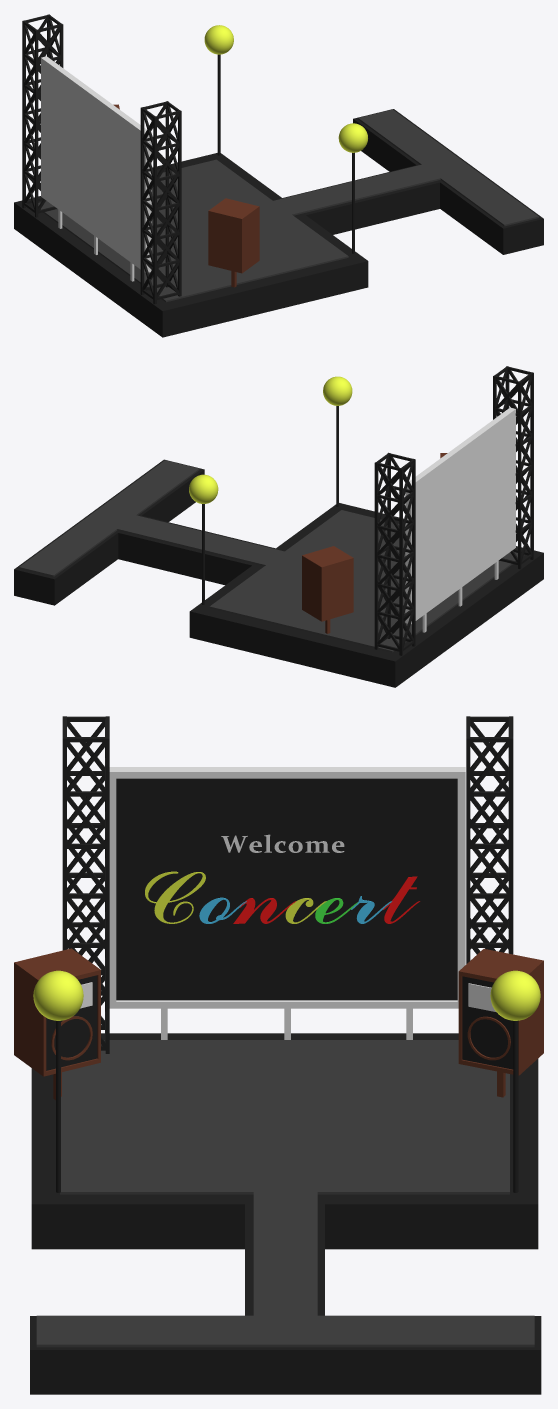
File: 19b05b35-fdc3-4532-8c09-22d61453a99a.glb
3 views of the same model, one above another, from view 1: azimuth 30°, elevation 25°; view 2: azimuth 150°, elevation 25°; view 3: azimuth 270°, elevation 25° (orthographic). The views are drawn at different scales.
Visible parts, largest first — view 1: Box209, Box184, Box204, Box206, Box188, Box187, Box203, Box202, Box208, Box194, Box221, Box223 (+5 smaller); view 2: Box209, Box184, Box204, Box206, Box188, Box187, Box202, Box201, Box185, Box179, Box208, Sphere003 (+4 smaller); view 3: Object002, Box204, Box184, Box188, Box206, Box209, Box202, Box203, Box201, Text004, Box187, Sphere003 (+8 smaller).
Part boxes in pixels (x1=…): Box209: x1=41, y1=56, x2=151, y2=272; Box184: x1=14, y1=153, x2=368, y2=337; Box204: x1=38, y1=159, x2=348, y2=302; Box206: x1=358, y1=109, x2=538, y2=226; Box188: x1=353, y1=109, x2=543, y2=254; Box187: x1=276, y1=164, x2=439, y2=234; Box203: x1=208, y1=198, x2=259, y2=273; Box202: x1=255, y1=162, x2=451, y2=215; Box208: x1=140, y1=107, x2=144, y2=294; Box194: x1=35, y1=29, x2=38, y2=217; Box221: x1=153, y1=116, x2=156, y2=304; Box223: x1=178, y1=110, x2=181, y2=296; Box209: x1=405, y1=407, x2=515, y2=624; Box184: x1=189, y1=503, x2=543, y2=687; Box204: x1=209, y1=510, x2=524, y2=652; Box206: x1=19, y1=460, x2=199, y2=576; Box188: x1=14, y1=459, x2=204, y2=605; Box187: x1=118, y1=515, x2=283, y2=585; Box202: x1=106, y1=512, x2=301, y2=570; Box201: x1=302, y1=546, x2=353, y2=621; Box185: x1=374, y1=462, x2=378, y2=649; Box179: x1=399, y1=468, x2=402, y2=655; Box208: x1=518, y1=381, x2=521, y2=568; Sphere003: x1=323, y1=376, x2=352, y2=405; Object002: x1=116, y1=778, x2=457, y2=1000; Box204: x1=60, y1=1040, x2=509, y2=1194; Box184: x1=31, y1=1033, x2=538, y2=1249; Box188: x1=30, y1=1316, x2=541, y2=1394; Box206: x1=36, y1=1315, x2=534, y2=1347; Box209: x1=109, y1=767, x2=465, y2=1008; Box202: x1=253, y1=1192, x2=317, y2=1325; Box203: x1=14, y1=948, x2=100, y2=1076; Box201: x1=458, y1=949, x2=543, y2=1075; Text004: x1=145, y1=871, x2=419, y2=923; Box187: x1=245, y1=1194, x2=324, y2=1315; Sphere003: x1=33, y1=970, x2=83, y2=1020.
Size of the model in its own units: 108570 by 58040 by 76834.
